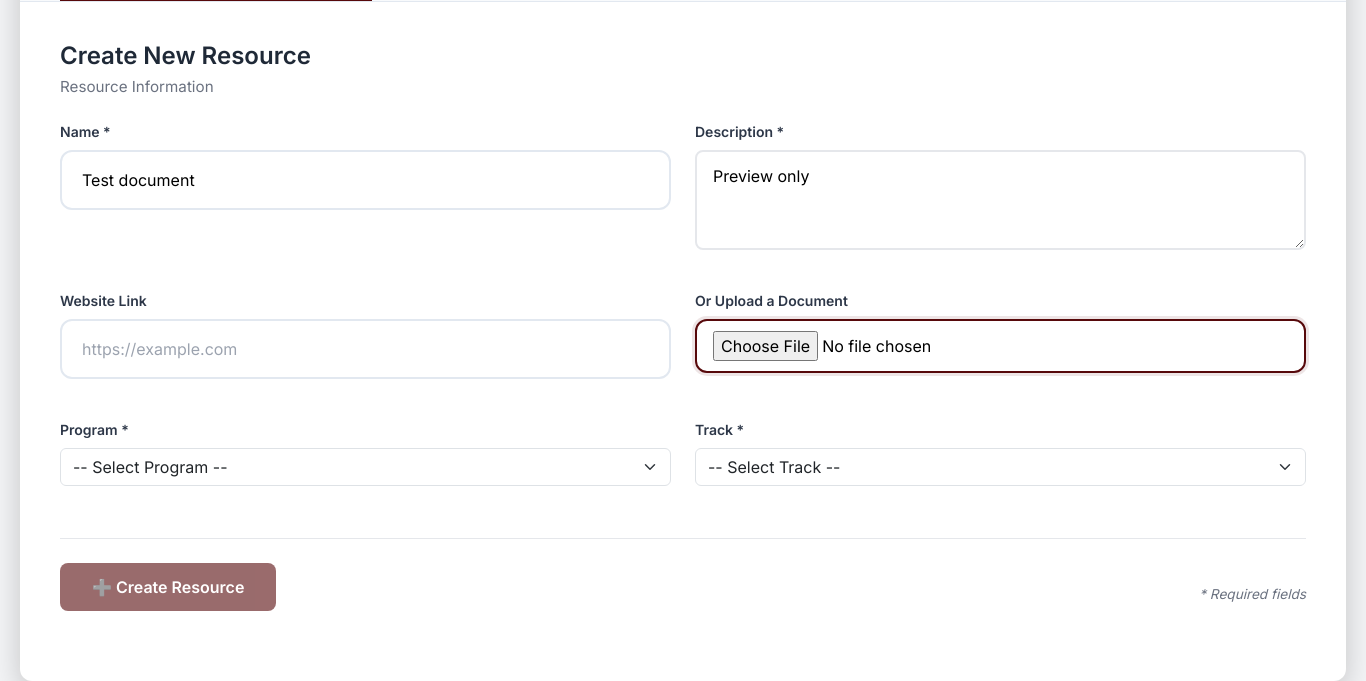
Scenario: a successful resource upload clears the file input so the same file can be selected again
Earlier steps of the test are not shown.
(page scrolled)
Step 1. Select "Mentorship Program" in the dropdown below "Program *" → coordinates (366, 467), box [60,448,671,486]
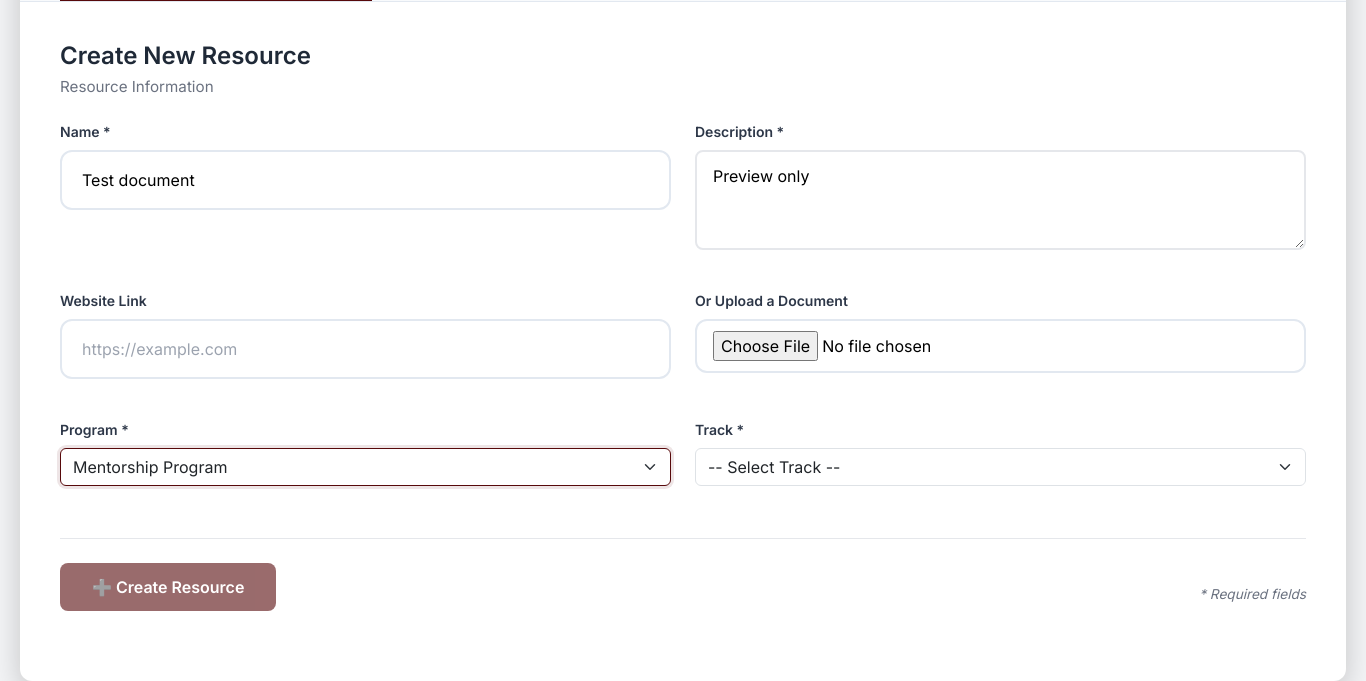
Step 2. Select "C# Programming" in the dropdown below "Track *" → coordinates (1000, 467), box [695,448,1306,486]
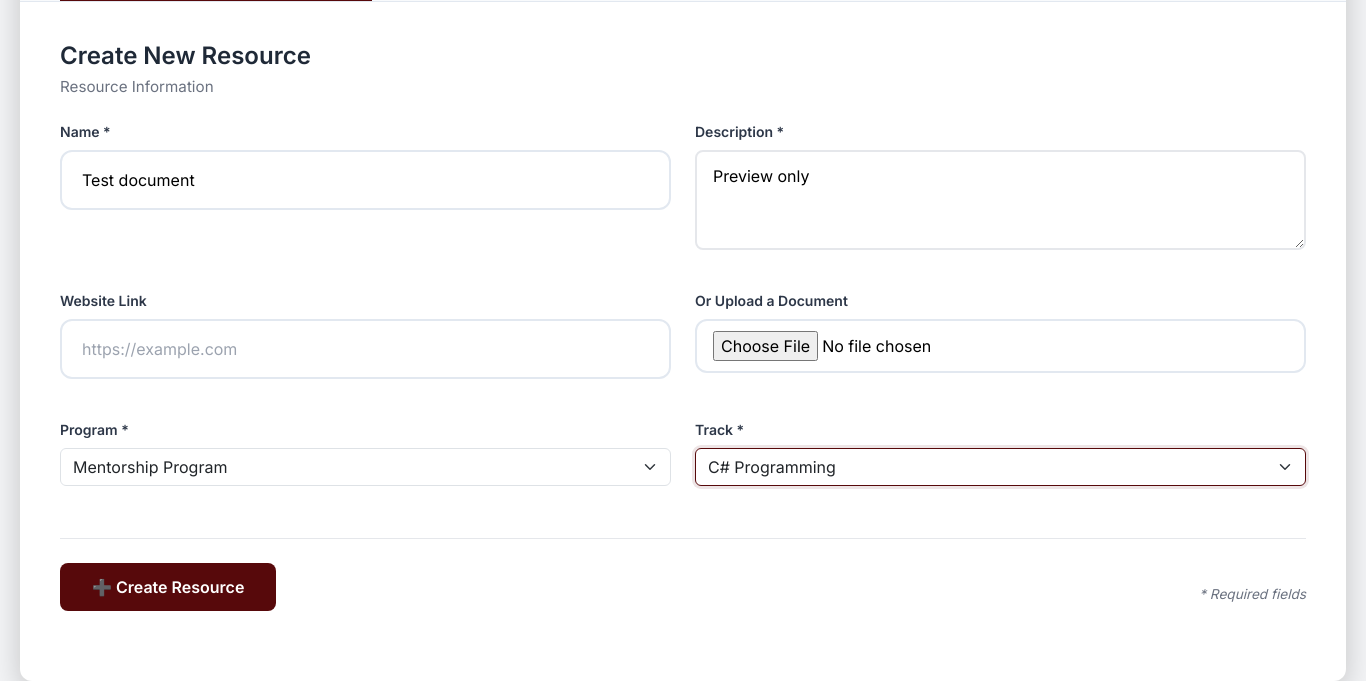
Step 3. Click the submit button → coordinates (168, 587), box [60,563,276,611]
(page scrolled)
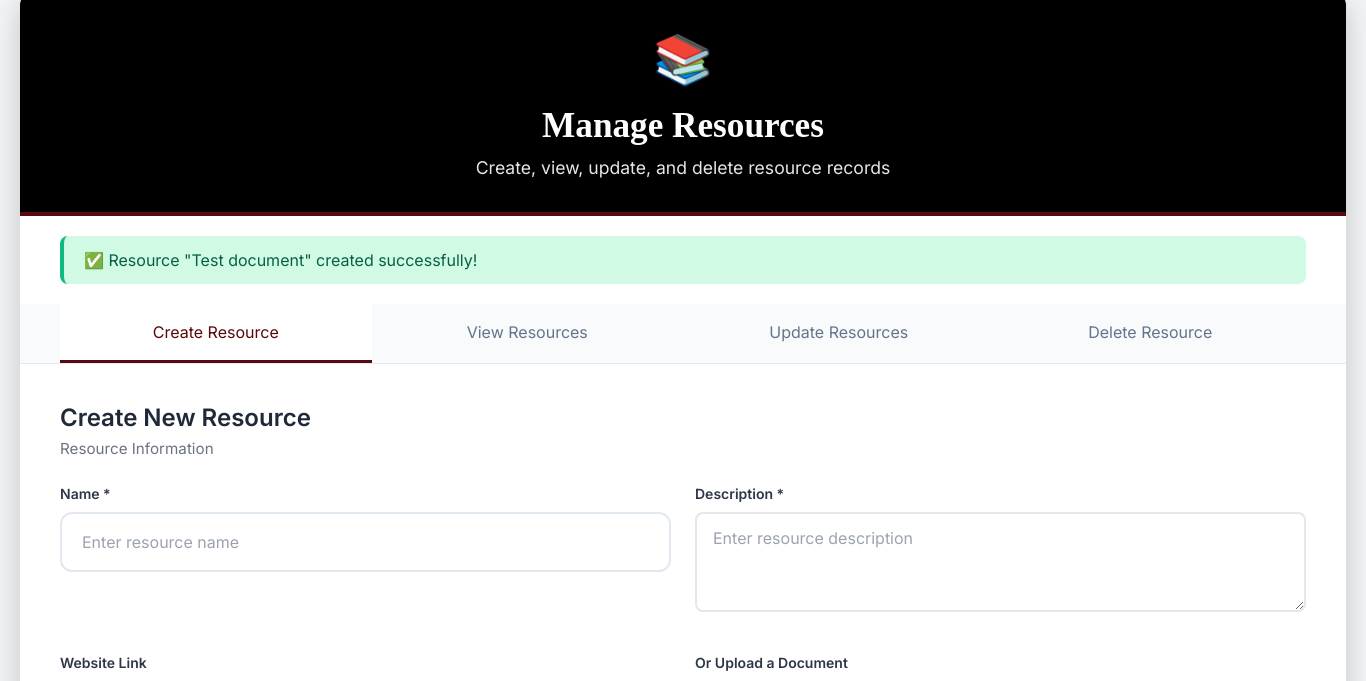
Check: the text "✅ Resource \"Test document\" created successfully!" is shown, box [60,236,1306,284]
